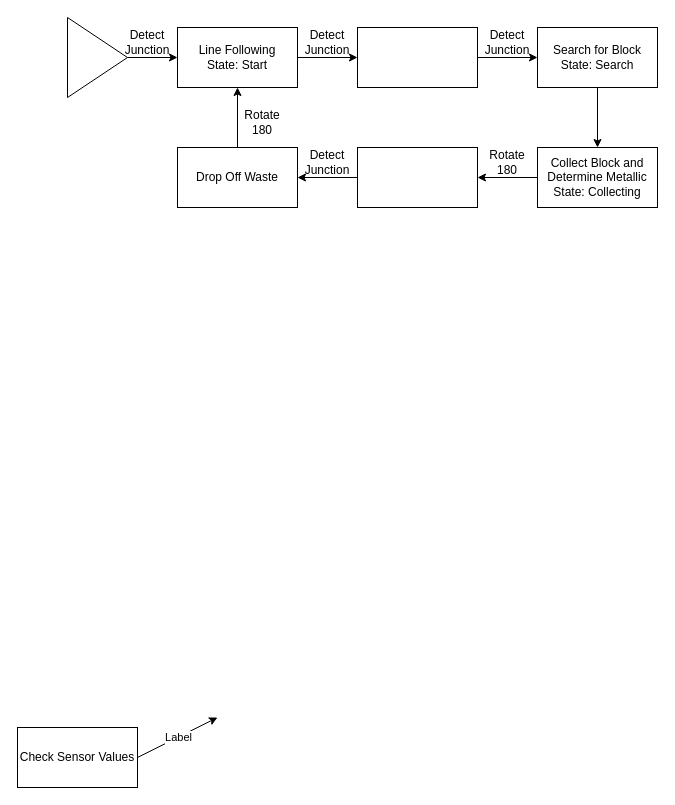
Image size: 675x805. Some labels were removed from this diagram. Here are the shapes that lost their labels. From the top down, the centre of each, then its label:
At (x=97, y=57): "State: Initialise".
At (x=417, y=57): "Line Following State: Slope IMU for sanity check".
At (x=417, y=177): "Find Line and Follow State: Transporting".
